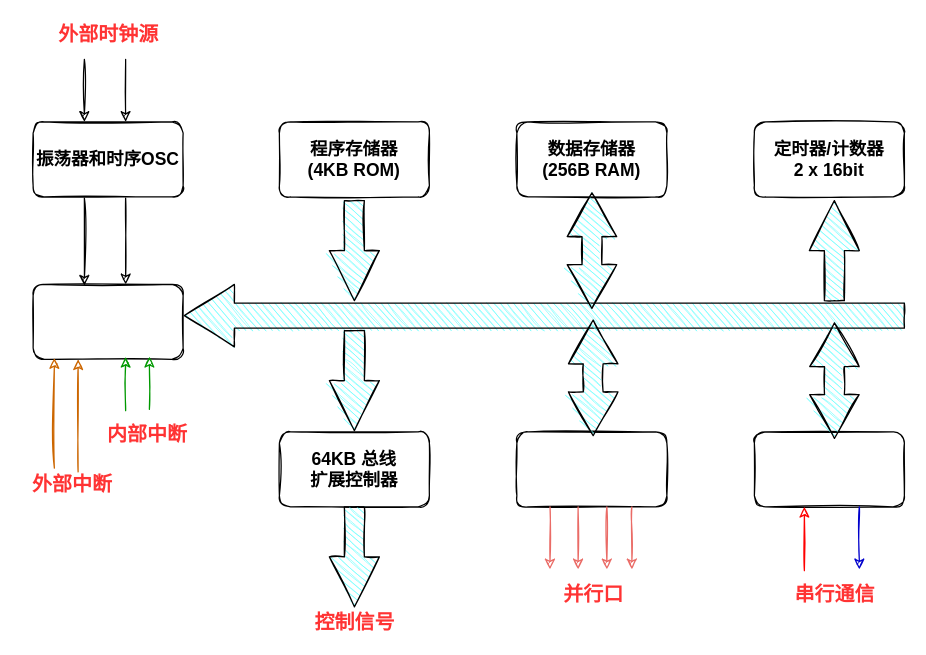
This 926x655 diagram has some shape labels left out. Each missing label, with the centre of its shape:
"51 CPU" belongs at (x=107, y=321).
"可编程I/O" belongs at (x=591, y=469).
"可编程全双工 串行口" belongs at (x=828, y=469).
